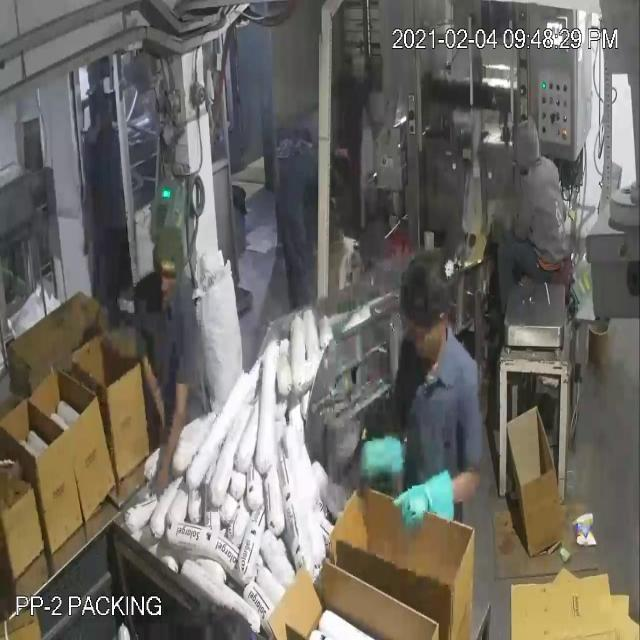No_Gloves: (38, 88, 426, 498)
